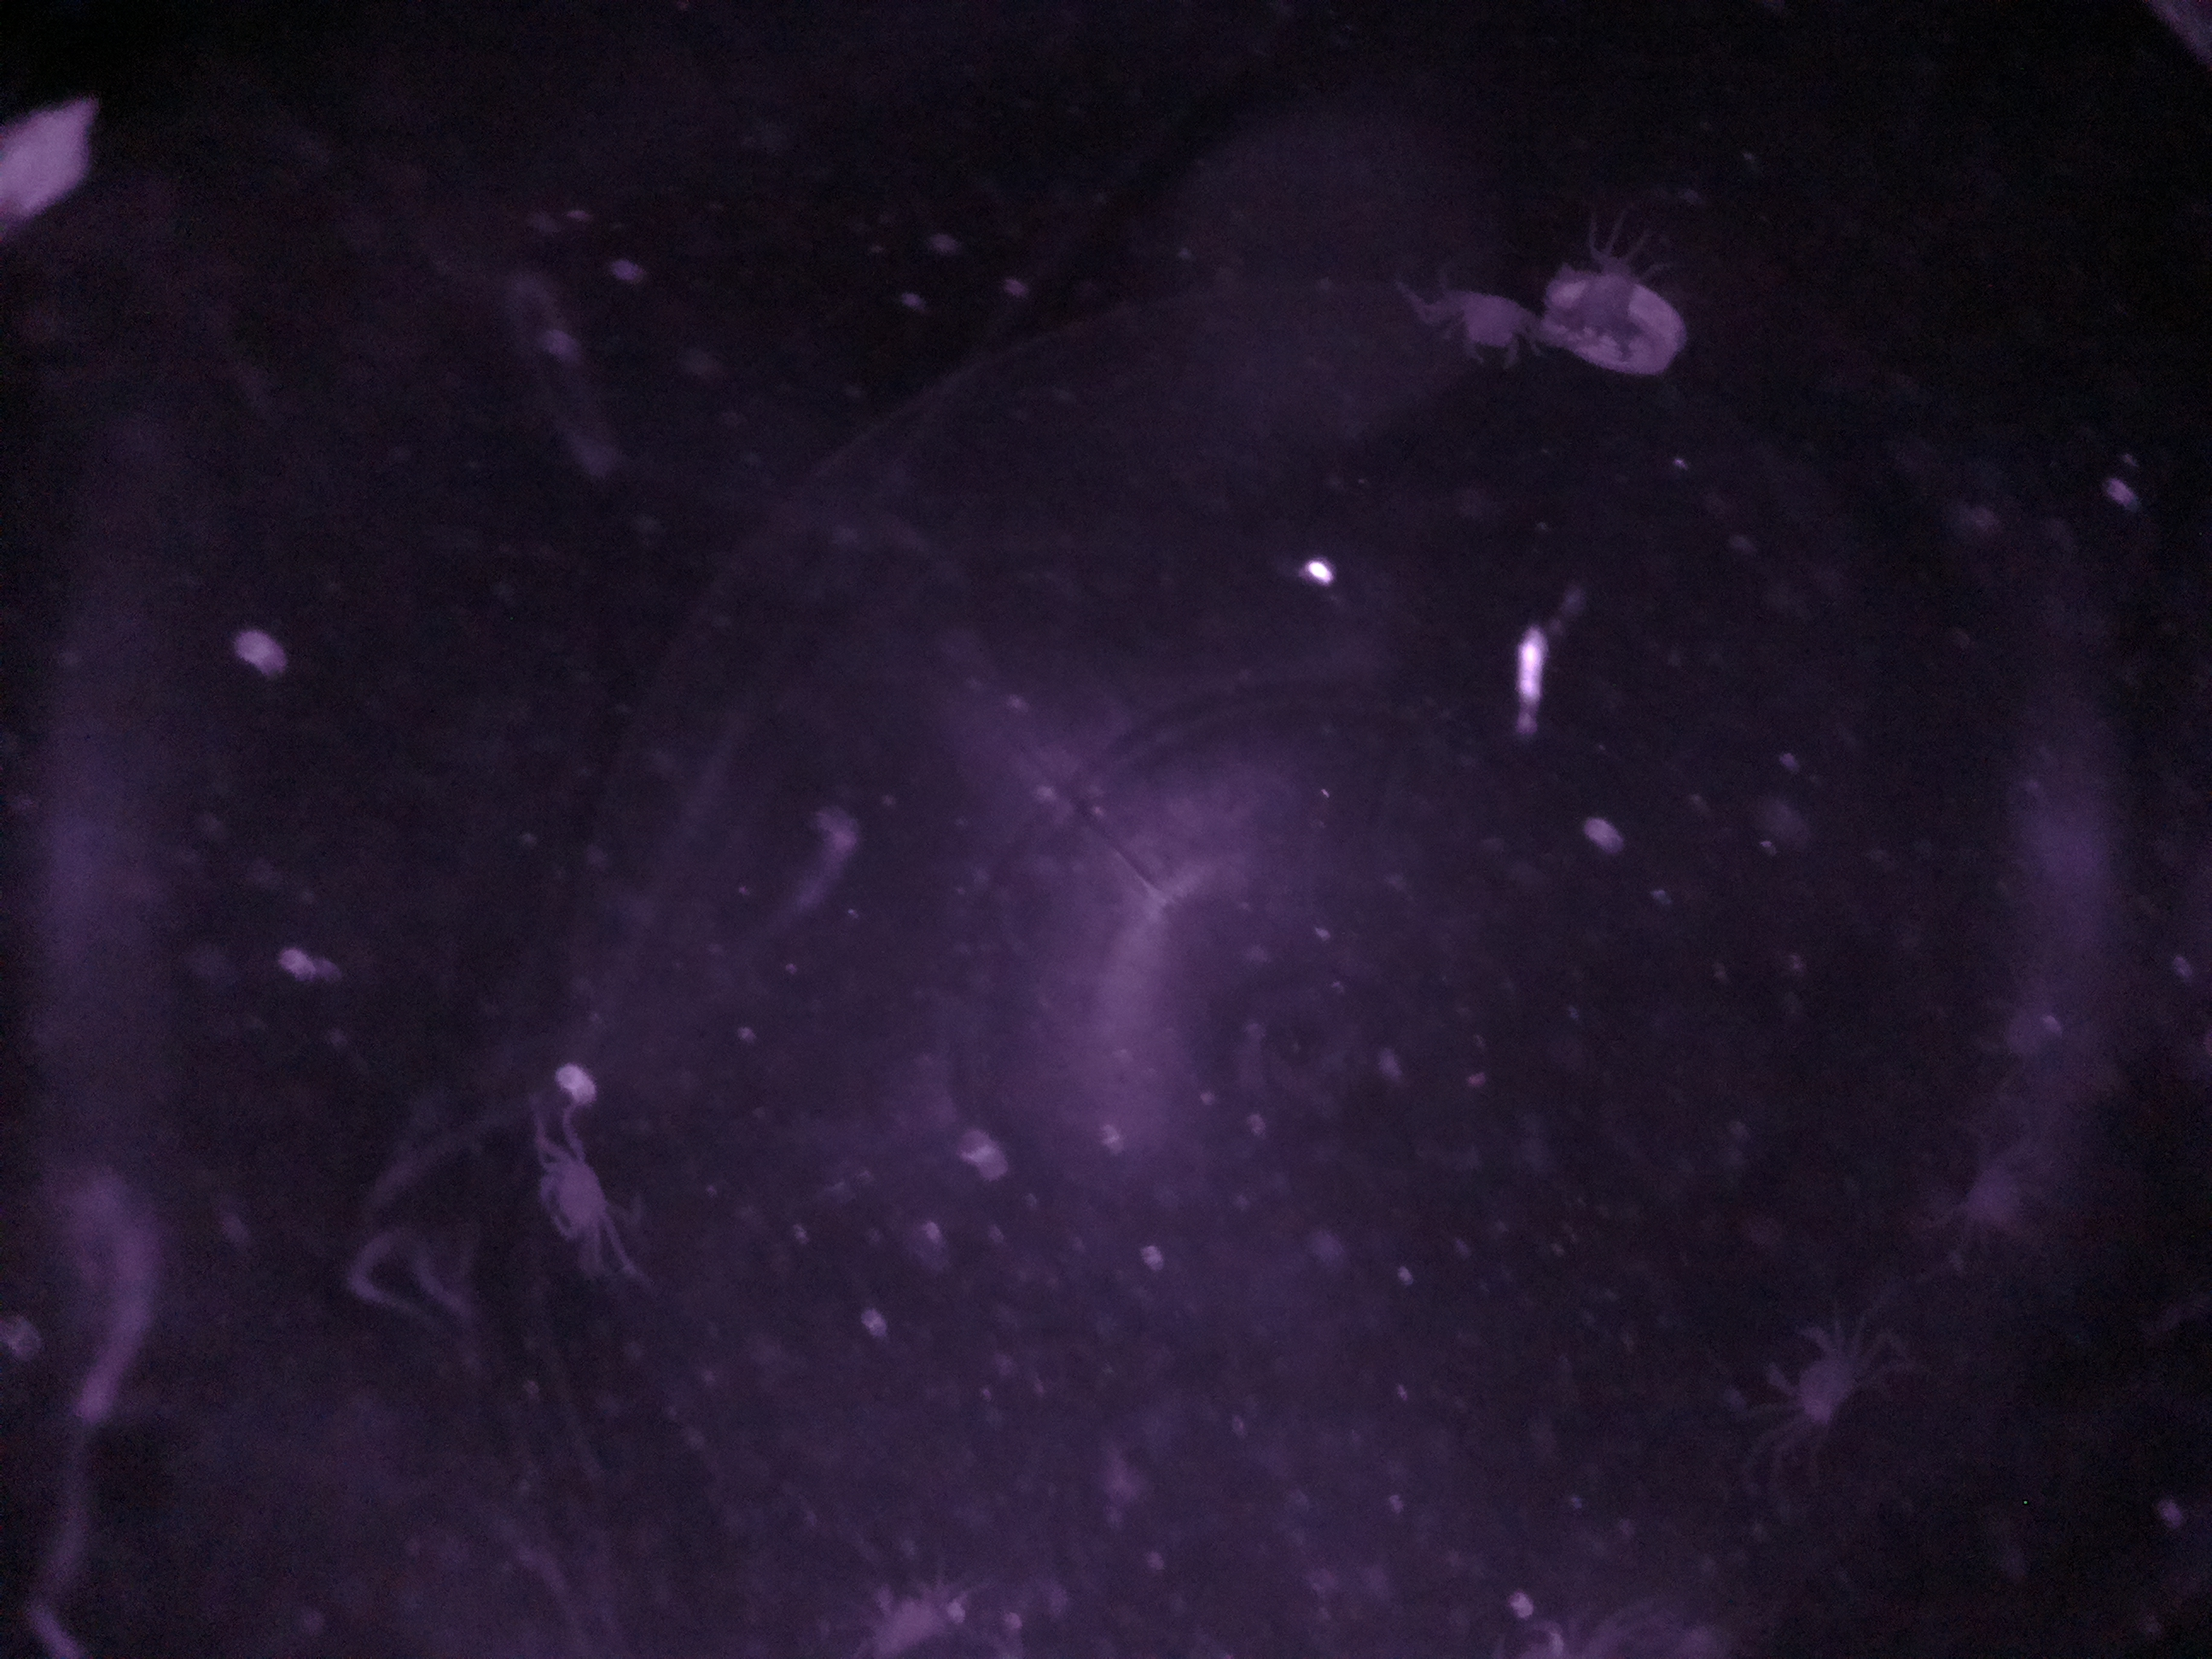Crab: (1745, 1300, 1872, 1443), (512, 1138, 632, 1258), (1432, 275, 1550, 378)
